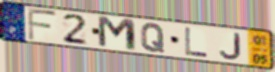2: (61, 13, 91, 47)
F: (26, 7, 59, 43)
J: (219, 32, 244, 61)
L: (183, 26, 209, 59)
M: (95, 14, 139, 53)
Q: (140, 22, 166, 54)
